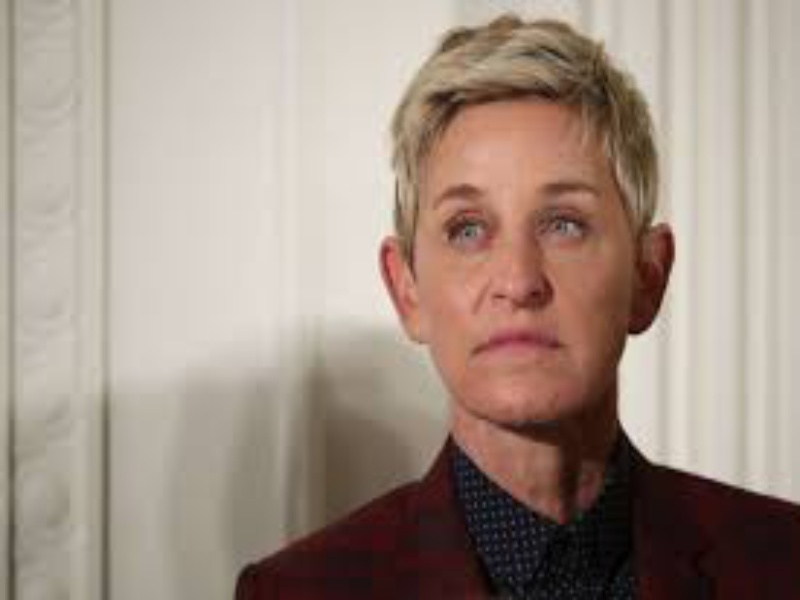TsisyArotava: (378, 85, 667, 441)
